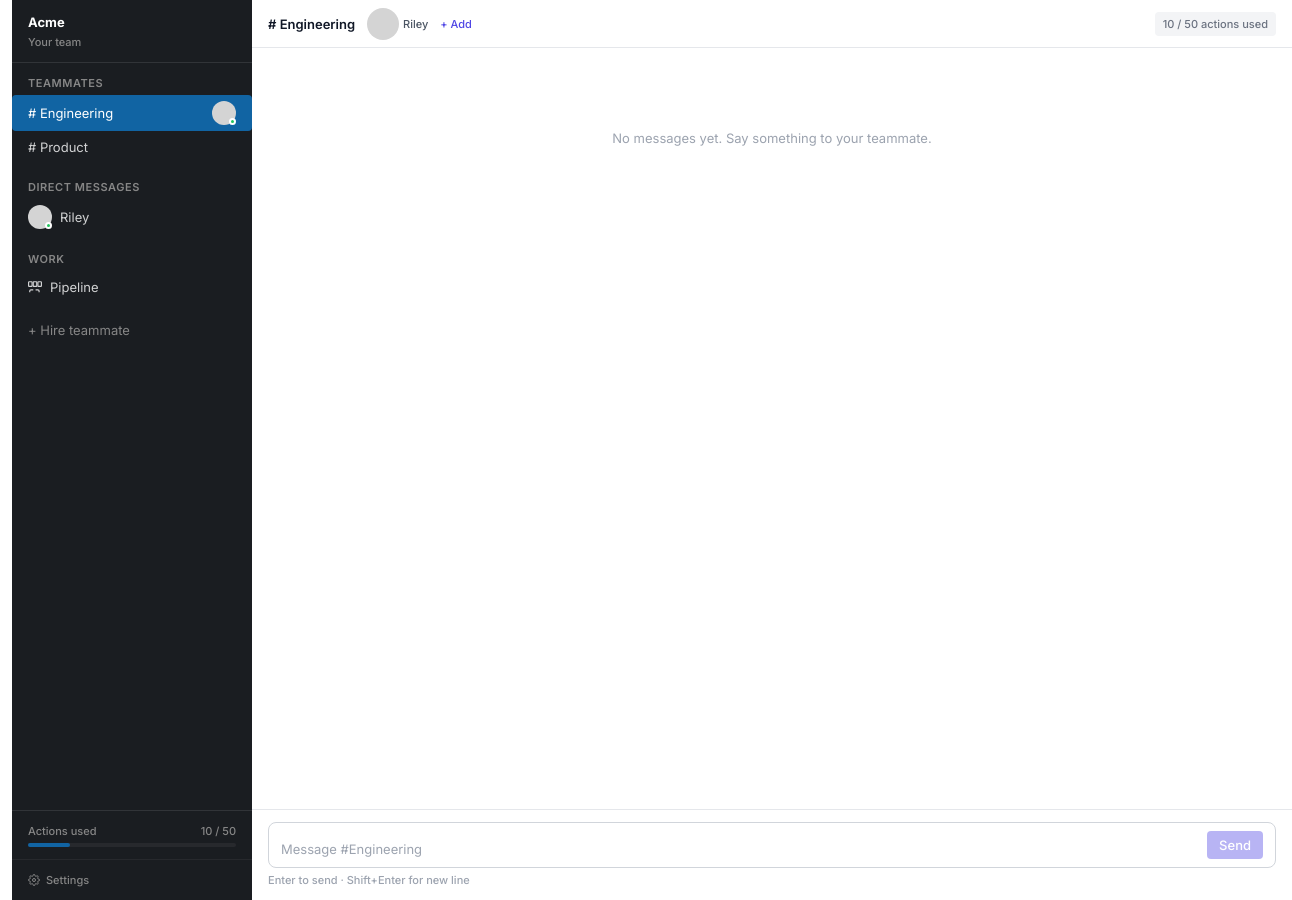
it: WorkspaceShell — sendMessage › optimistically inserts the message before the API responds
Type "ship it" into the text box at (740, 849), box [281, 839, 1199, 859]
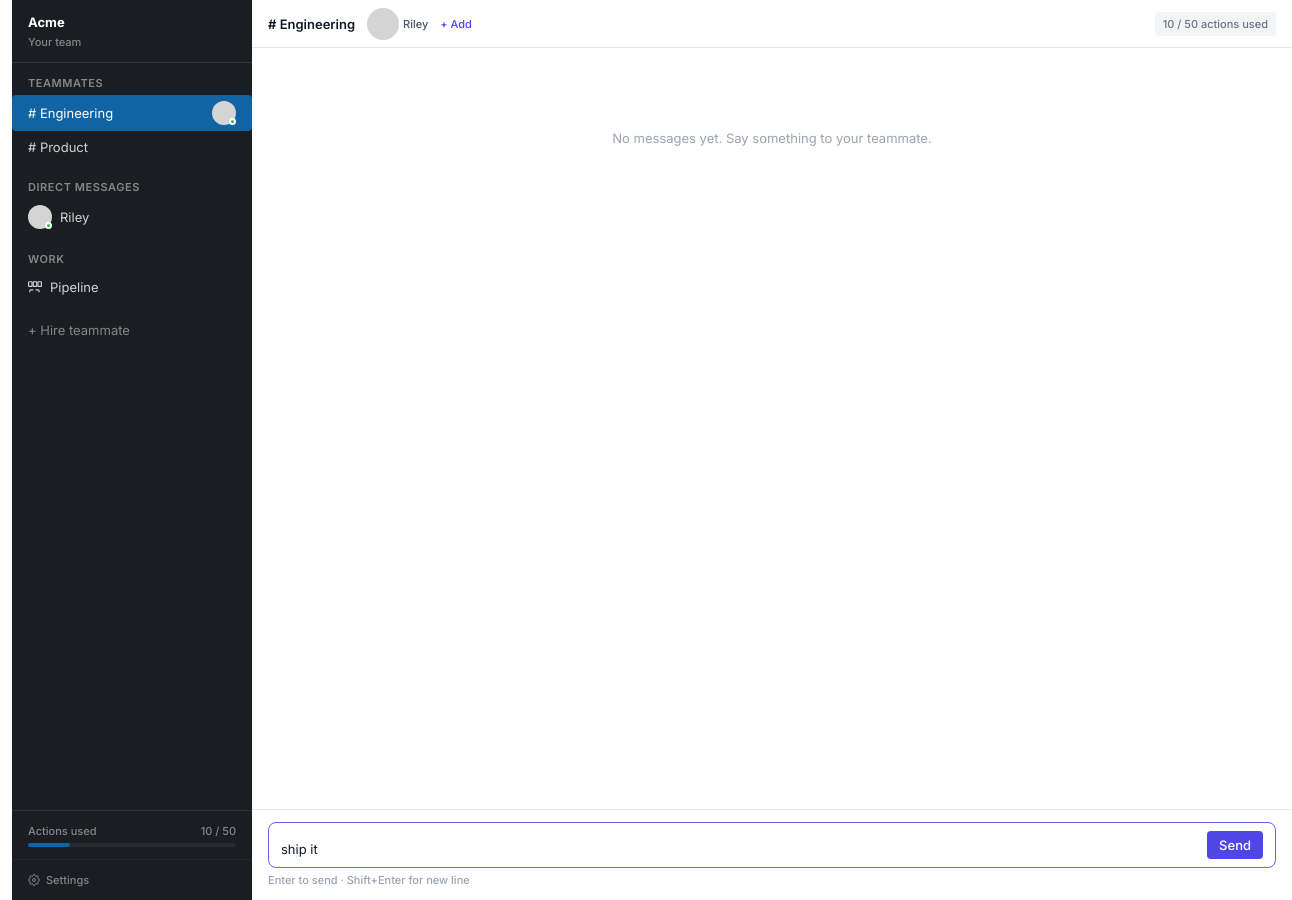
Click the button "Send" at (1235, 845), box [1207, 831, 1263, 859]
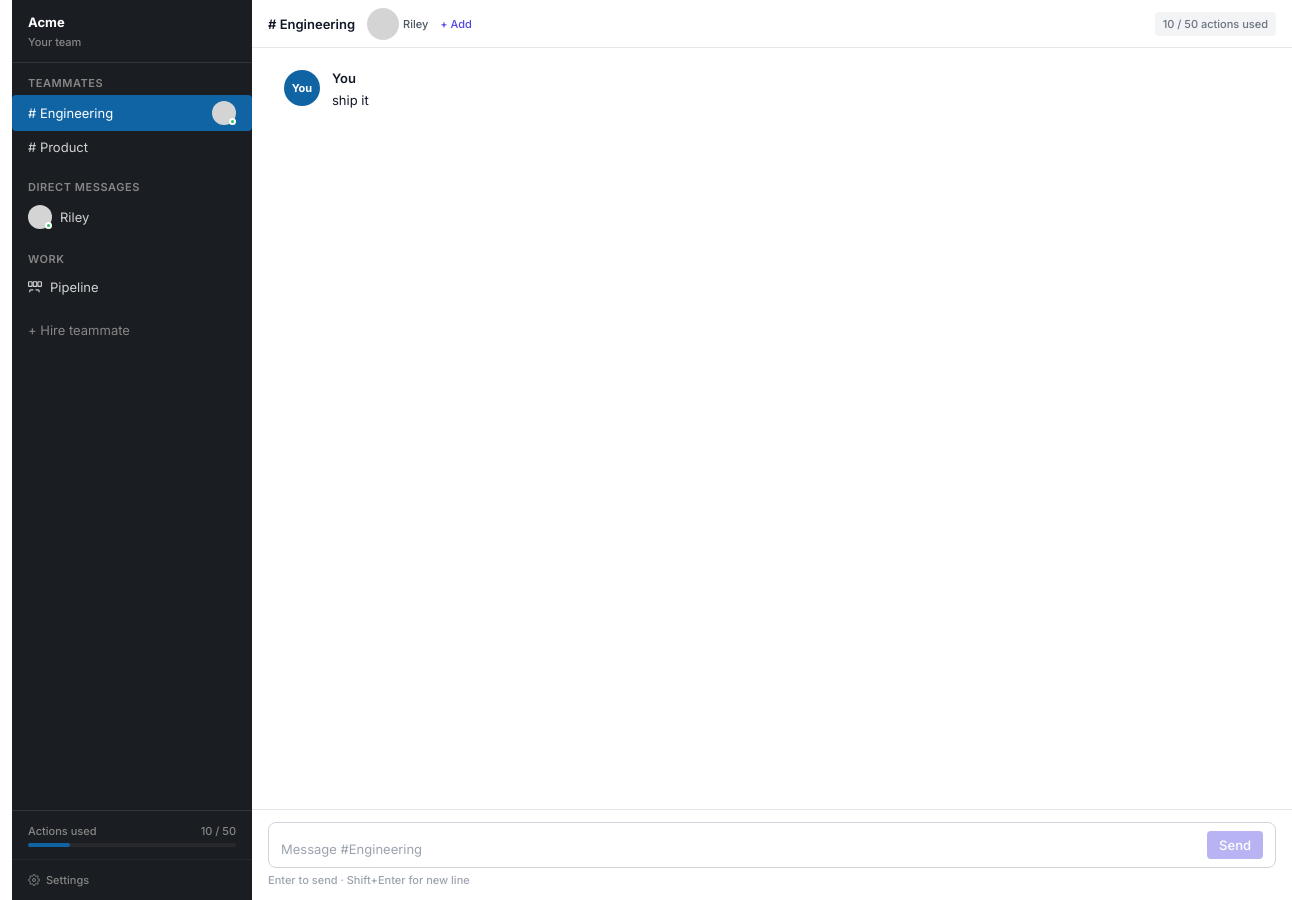
Result: the text "ship it" is shown at [332, 92, 369, 108]
